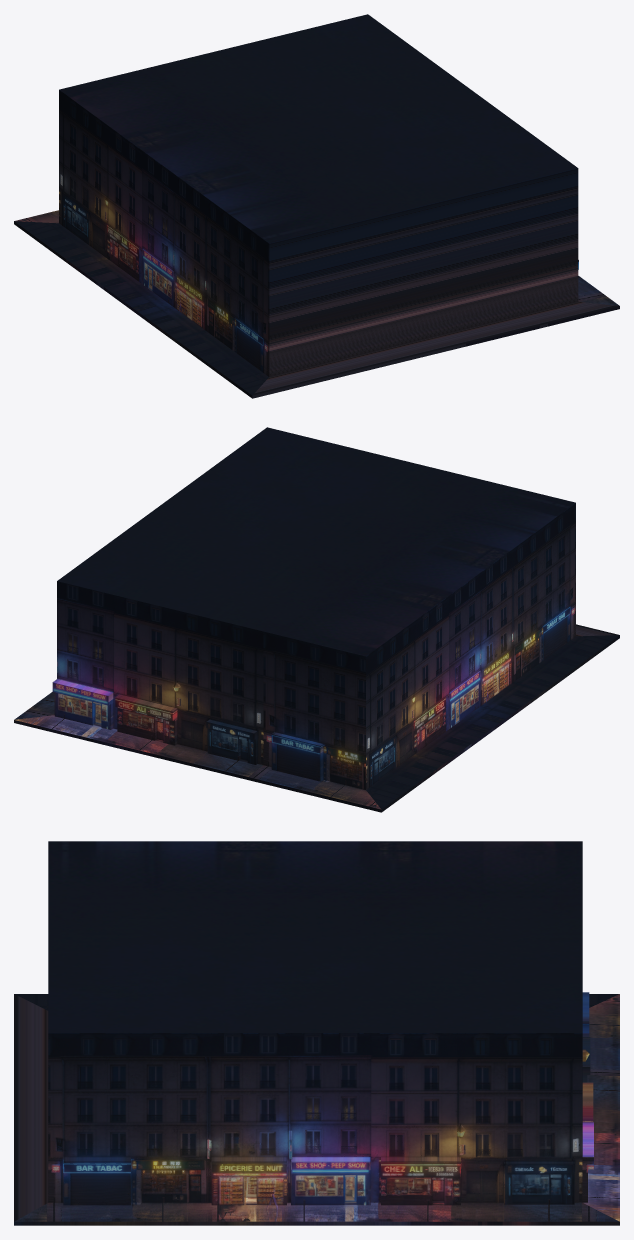
File: BuildingDroite.fbx
3 renders of one model, top to bottom at view 1: azimuth 30°, elevation 25°; view 2: azimuth 150°, elevation 25°; view 3: azimuth 270°, elevation 25°, orthographic. The views are drawn at different scales.
Parts seen in each view (by area): view 1: Building droite; view 2: Building droite; view 3: Building droite.
Part boxes in pixels (<box>): Building droite: <box>14,14,619,398</box>; Building droite: <box>14,427,619,812</box>; Building droite: <box>14,841,619,1225</box>.
Size of the model in its own units: 40 by 44.94 by 14.35.
Materials: 1 (1 with a texture image).
